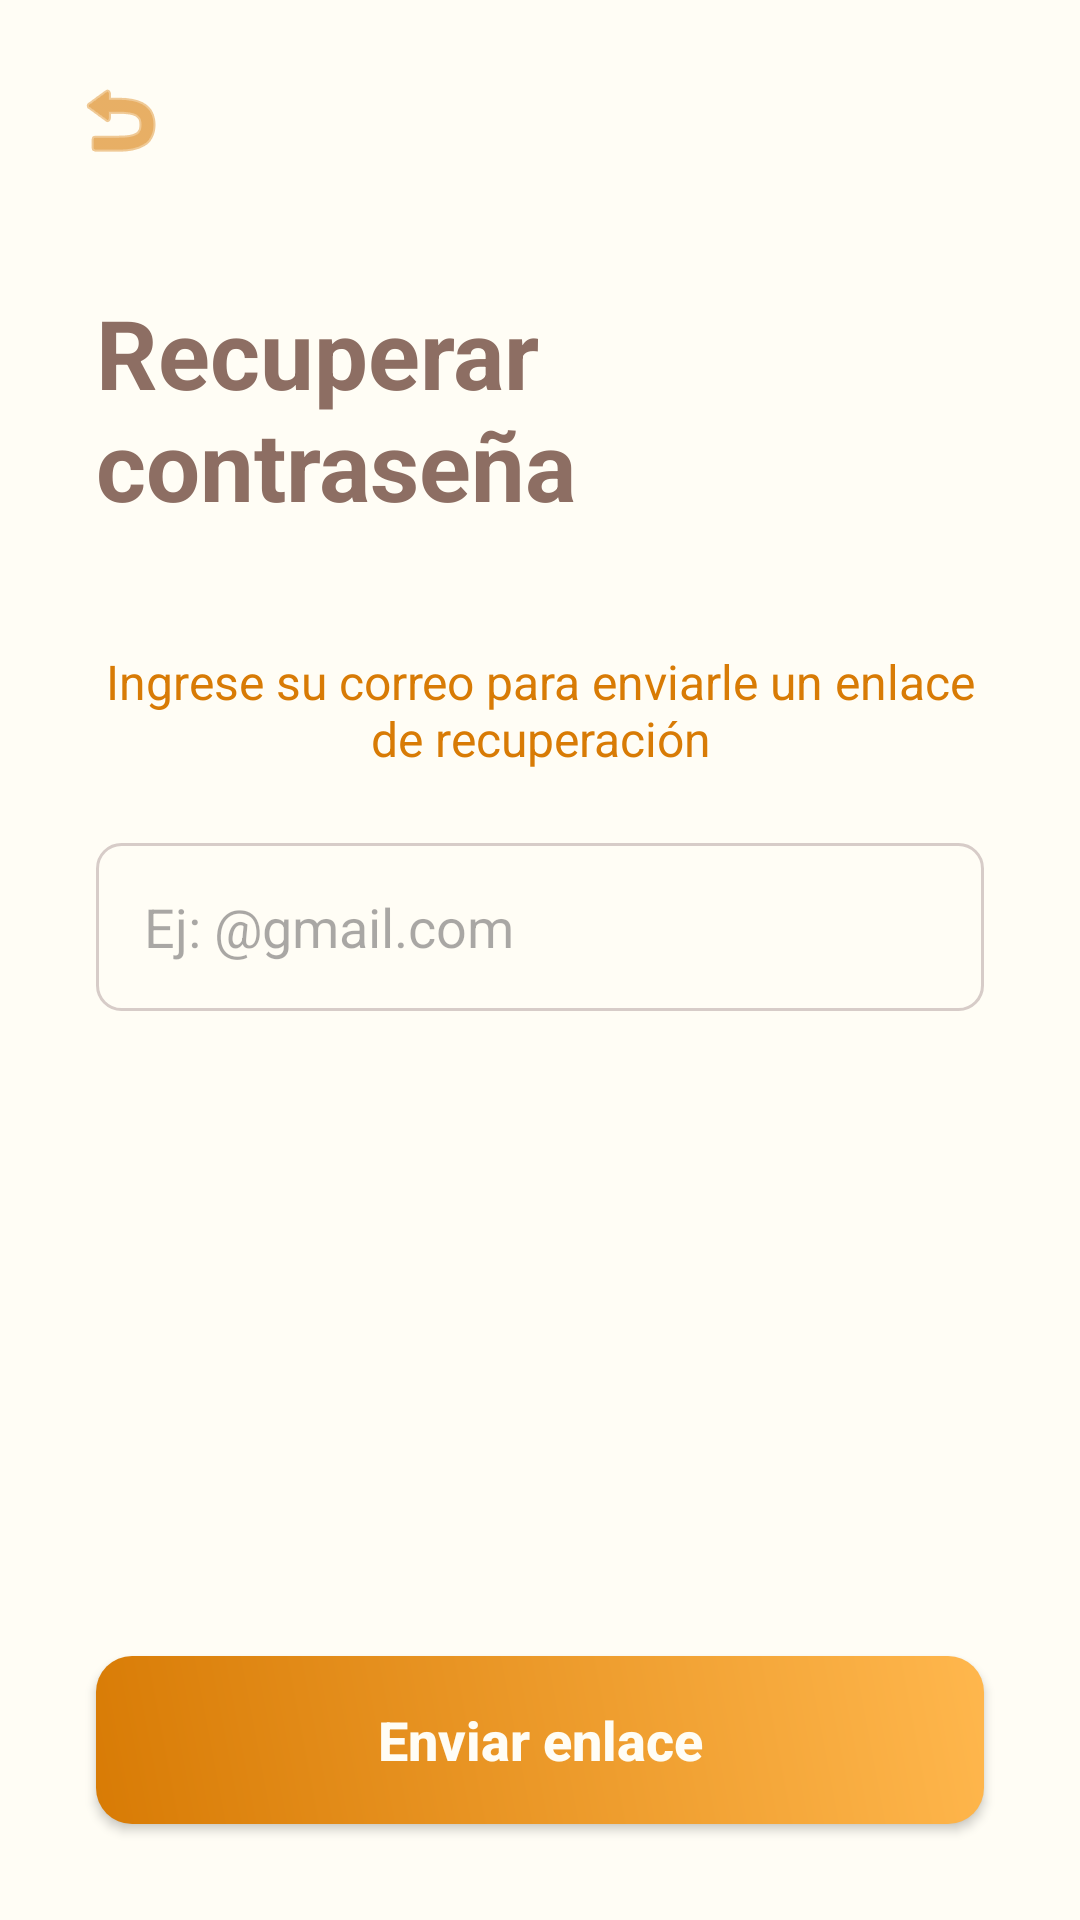

Point at icon controls on the screen. Image size 1080 x 1920, points as (x=x, y=y).
Volver al login: (x=121, y=120)
